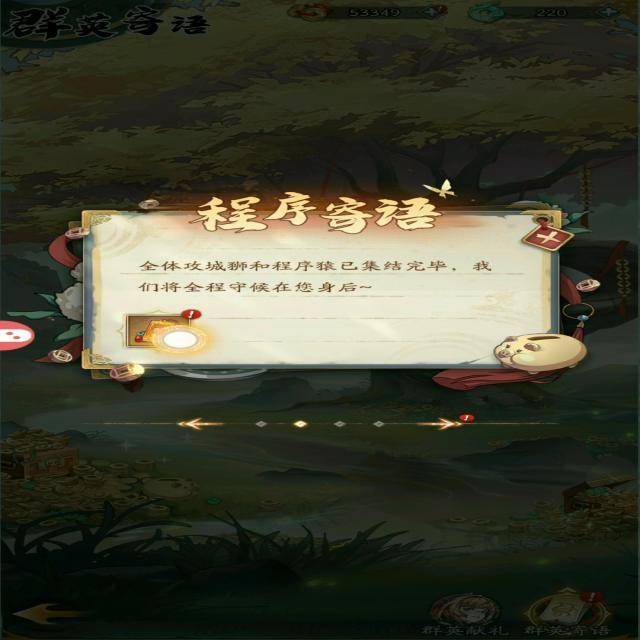hint-reddot: (446, 410, 478, 425), (174, 305, 197, 323)
operation-close: (504, 226, 590, 250)
operation-confirm: (110, 309, 210, 352)
operation-enter: (403, 416, 464, 434), (168, 415, 215, 438)
